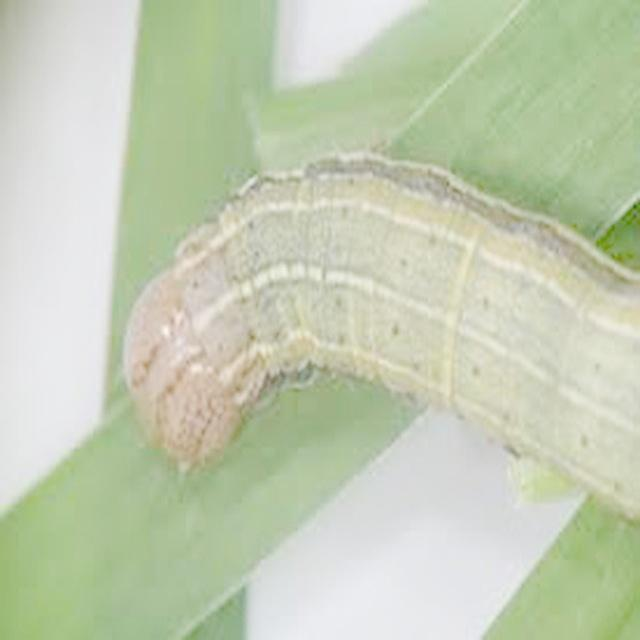gusano_cogollero: (119, 149, 640, 532)
